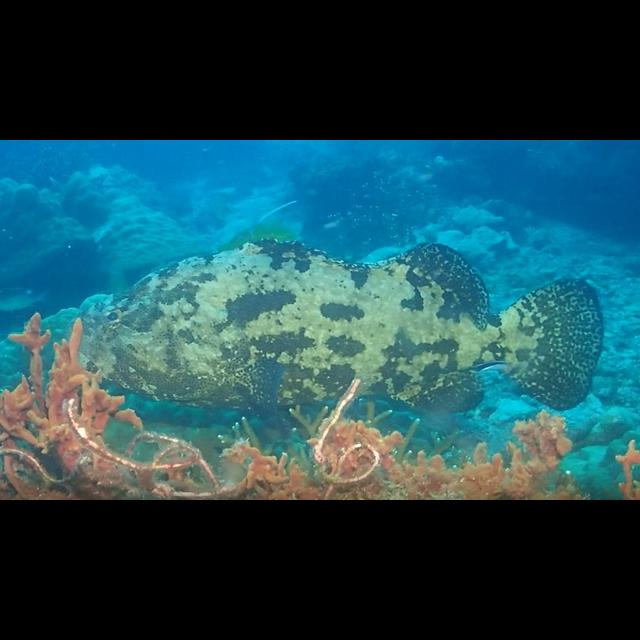Groupers: (67, 241, 605, 415)
